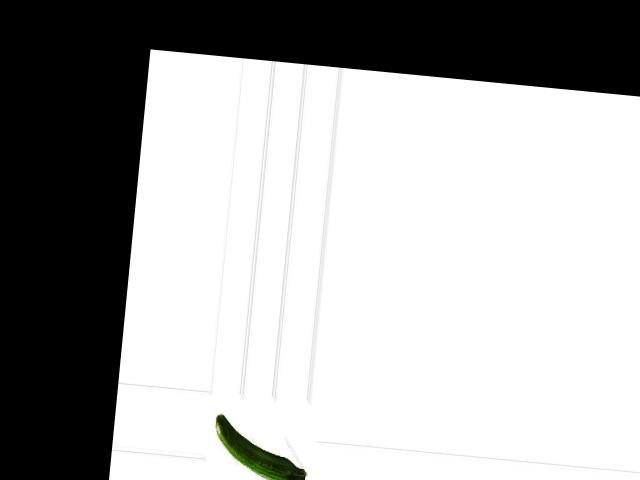cucumber: (210, 413, 312, 480)
